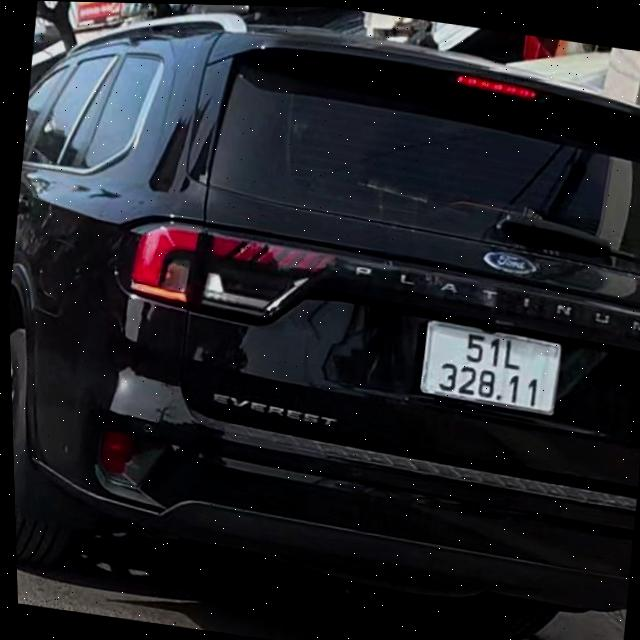car: (0, 0, 640, 640)
plate: (409, 306, 573, 421)
